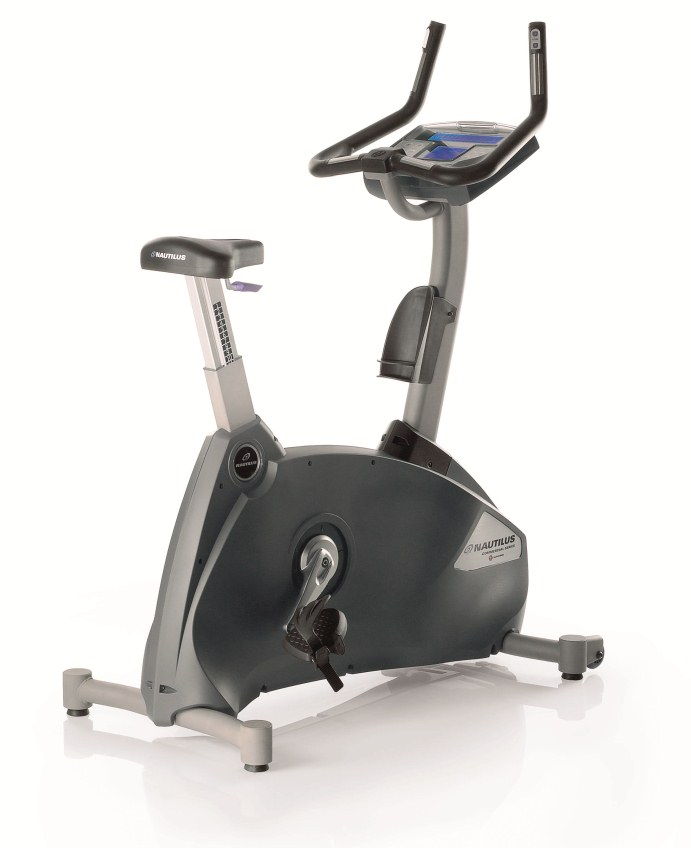gym_bike: (61, 24, 627, 776)
